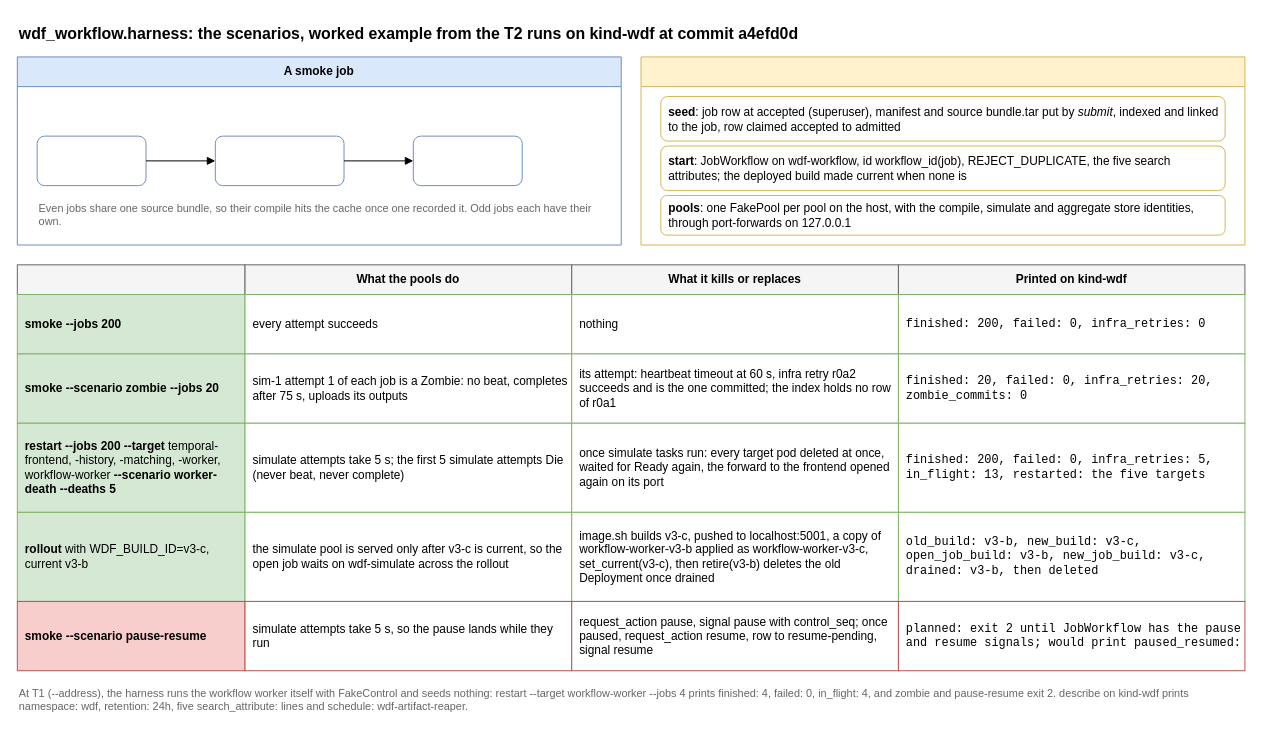
The diagram is 1262 pixels wide and 737 high, and some of its shapes have lost their labels. The box of each missing label's shape, as (x1, y1, x2, y2) in pixels:
agg aggregate: (412, 135, 522, 186)
build compile: (36, 135, 146, 186)
Scenario: (16, 264, 245, 295)
sim-1 .. sim-4 simulate: (214, 135, 344, 186)
What the harness does as admission (T2): (640, 56, 1245, 245)
